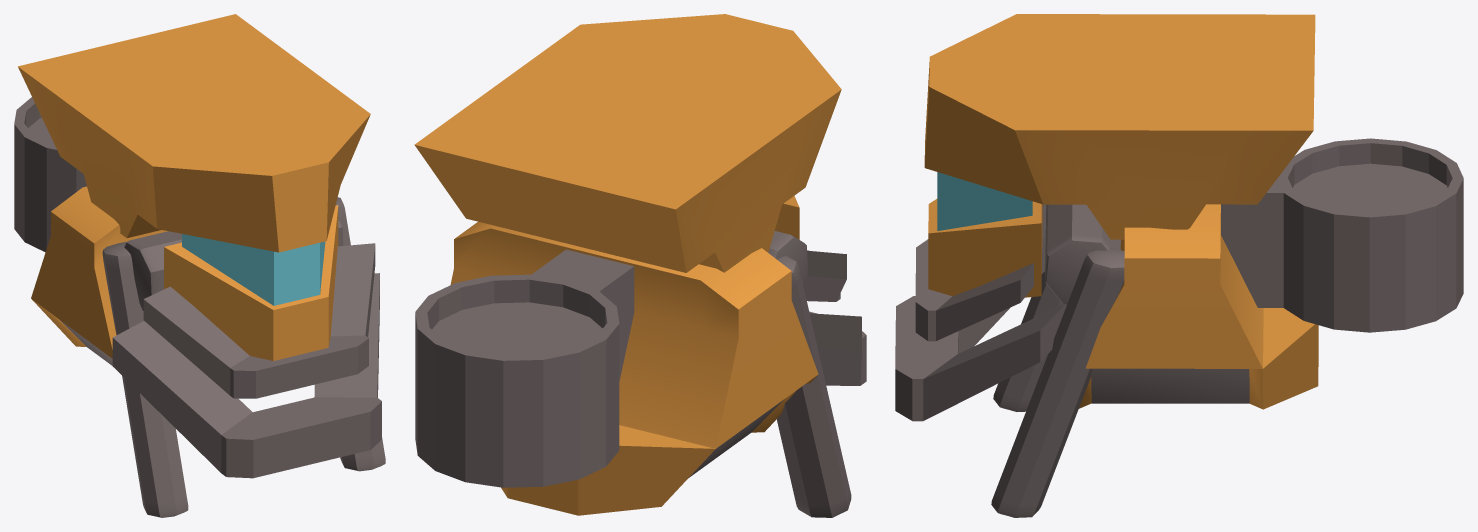
File: MotorLevel2.fbx
3 renders of one model, left to right at view 1: azimuth 30°, elevation 25°; view 2: azimuth 150°, elevation 25°; view 3: azimuth 270°, elevation 25°, orthographic. The views are drawn at different scales.
Visible parts, largest first — view 1: Cylinder.007; view 2: Cylinder.007; view 3: Cylinder.007.
Part boxes in pixels (x1=…): Cylinder.007: x1=14, y1=14, x2=385, y2=517; Cylinder.007: x1=414, y1=14, x2=866, y2=517; Cylinder.007: x1=895, y1=14, x2=1463, y2=517.
Size of the model in its own units: 478 by 603 by 805.
